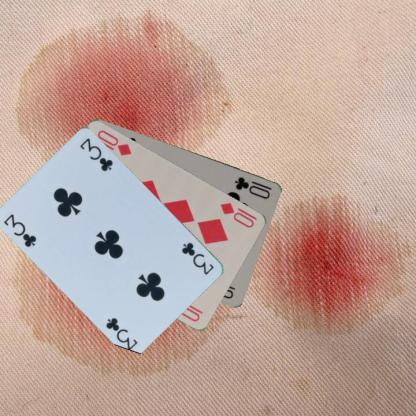10c: (232, 174, 274, 200)
10d: (218, 200, 256, 230)
3c: (179, 239, 216, 276), (1, 212, 38, 249)
